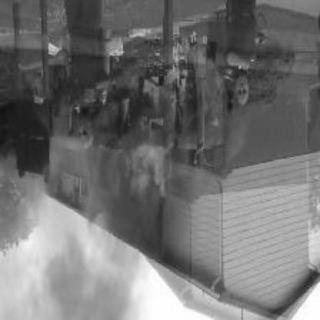Fire: (93, 50, 225, 209)
